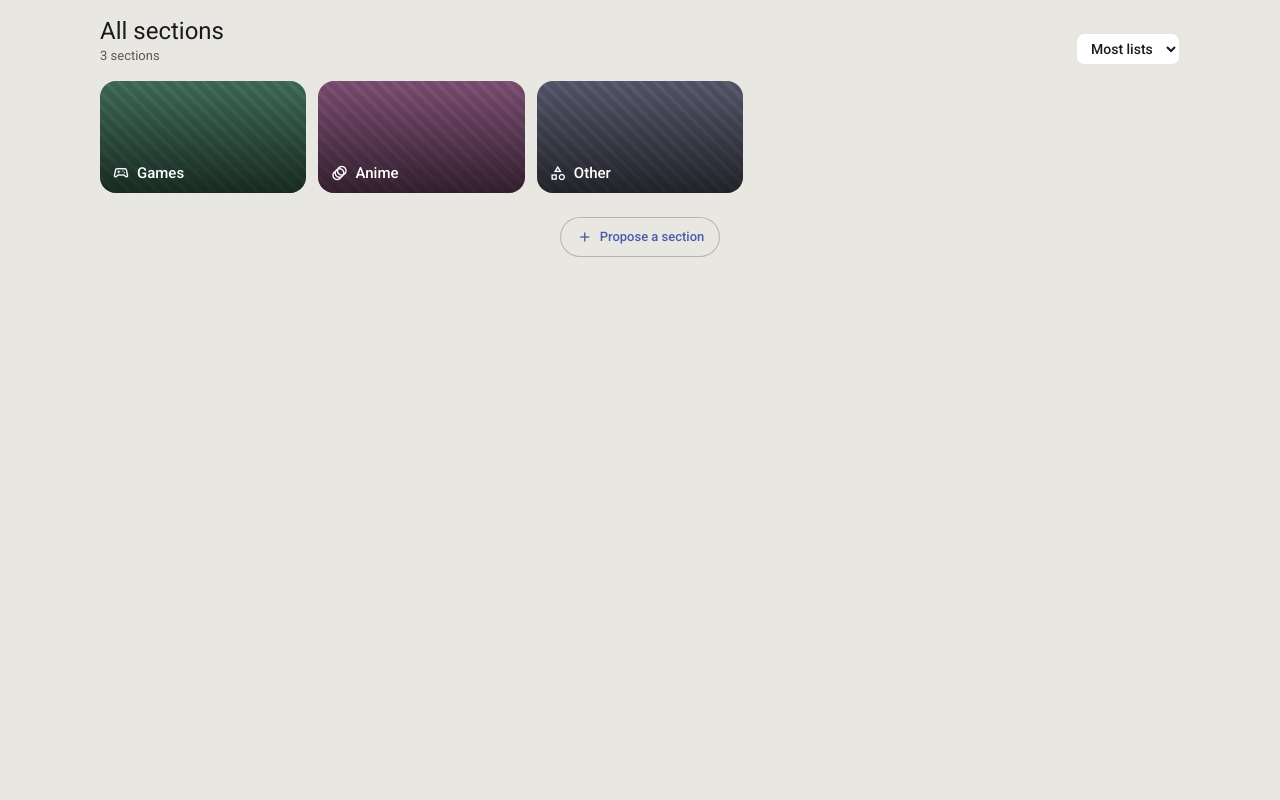
Test case: All sections: proposing › asks a guest to sign in first, then opens the form
Click the button "Propose a section" at (640, 237), box x1=560 y1=217 x2=720 y2=257
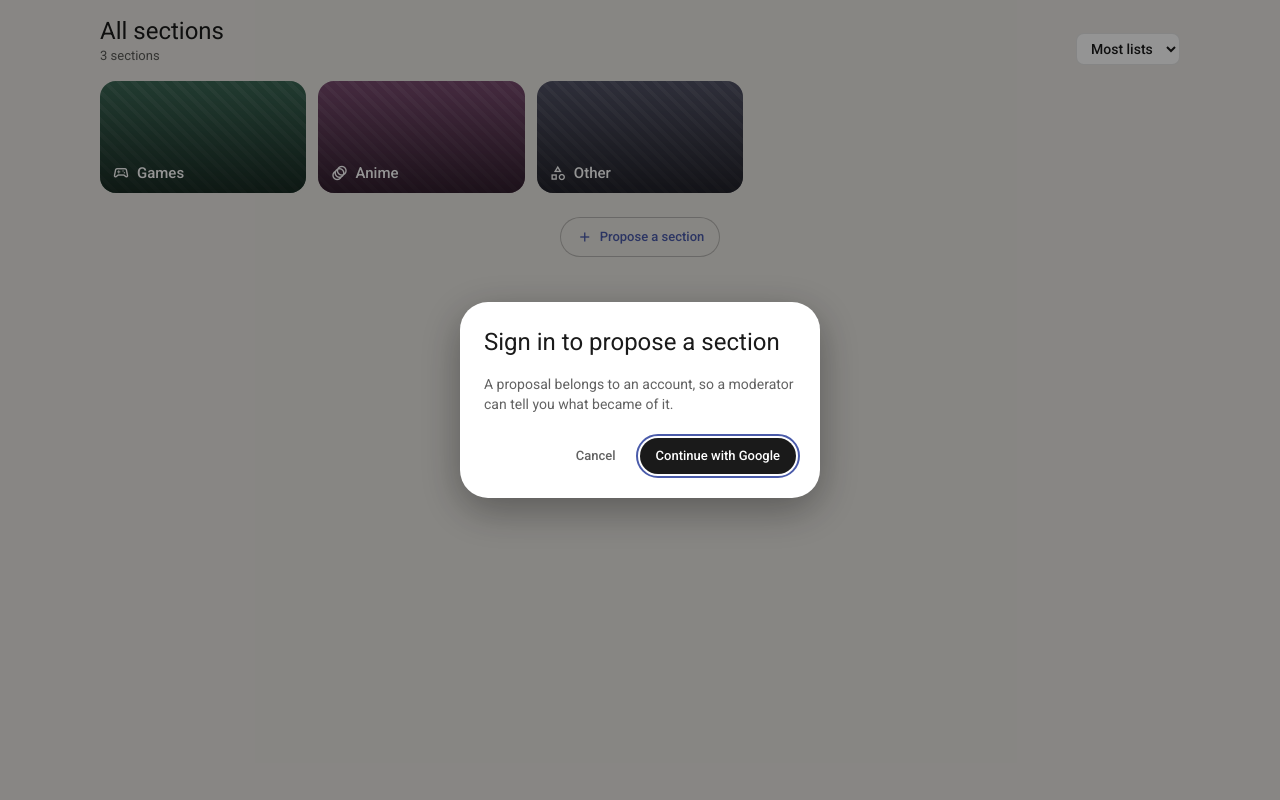
Expected: the dialog "Sign in to propose a section" is shown, x1=460 y1=302 x2=820 y2=498
Click the button "Continue with Google" at (718, 456), box x1=640 y1=438 x2=796 y2=474
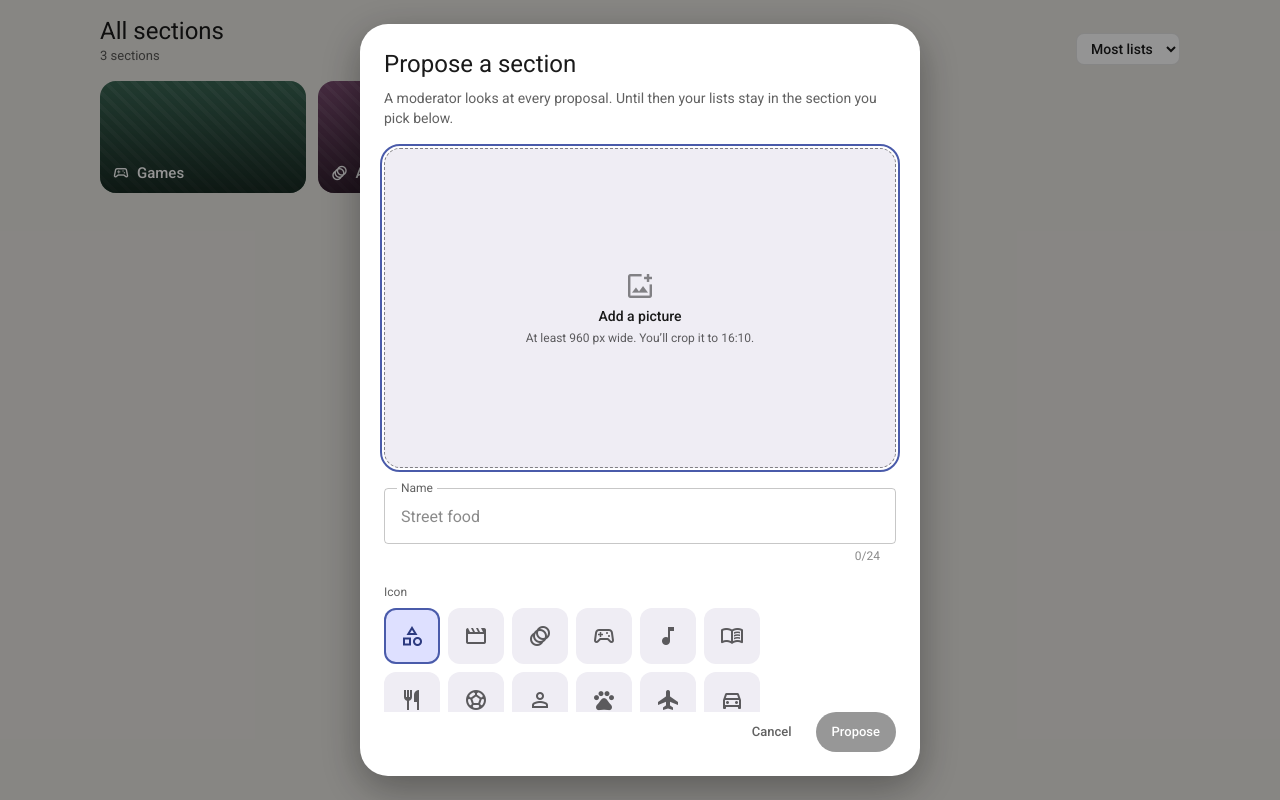
Expected: the dialog "Propose a section" is shown, x1=360 y1=24 x2=920 y2=776
